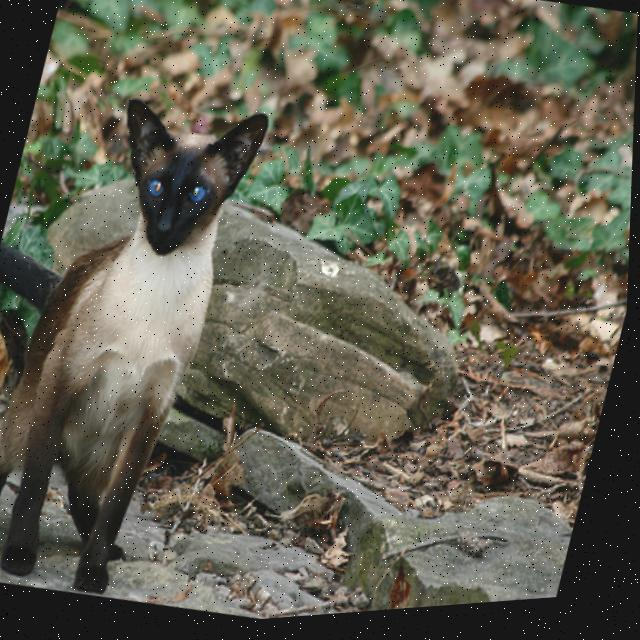Siamese: (0, 67, 278, 617)
